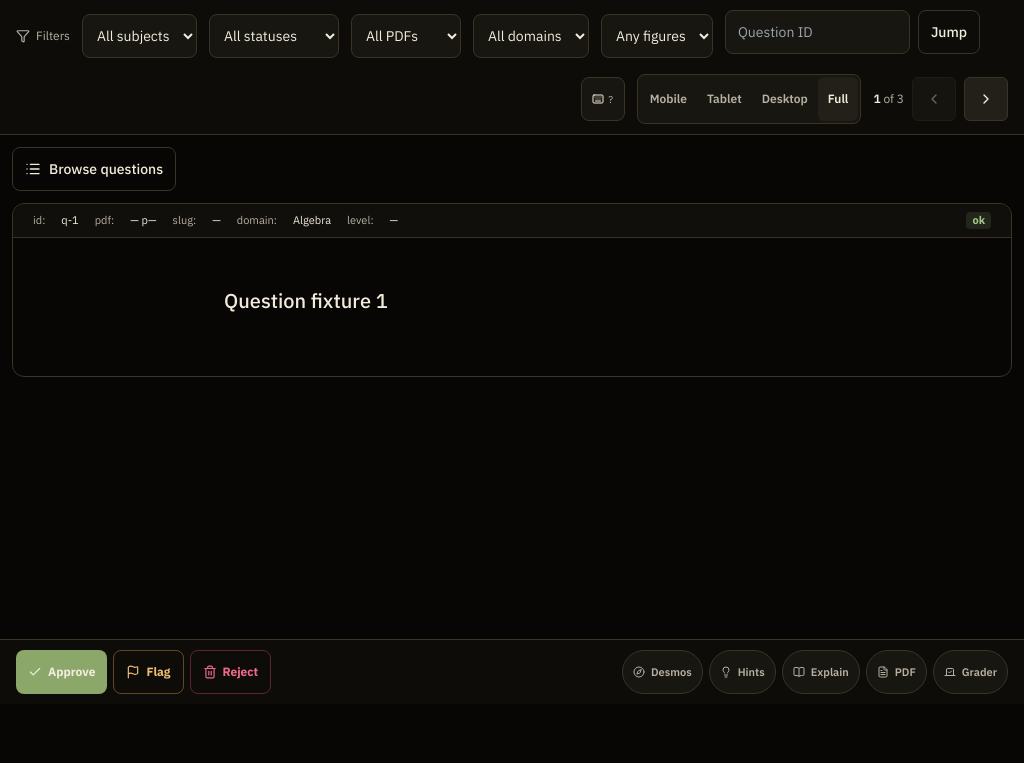
Test: full preview selected-question navigation › keeps the list, selection, filters and input focus when an ID is not loaded via keyboard
Expected: the heading "Question fixture 1" is shown, [224,286,388,314]
Select "needs_review" in the dropdown named "Question status" at (274, 36), box [209,14,339,58]
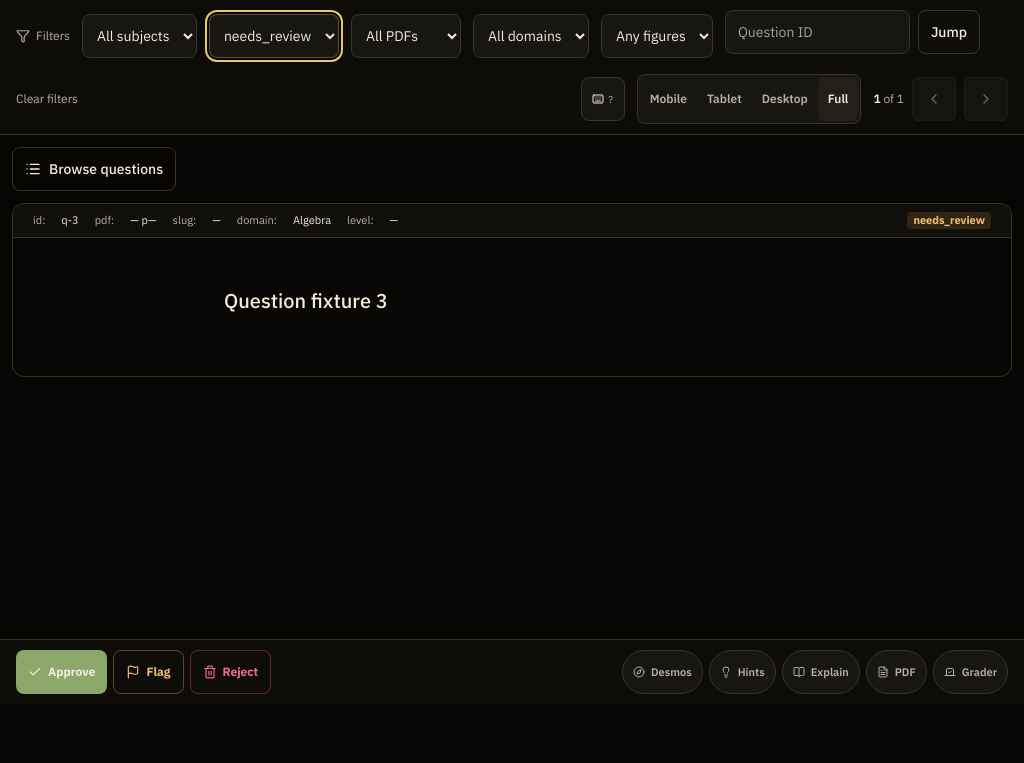
Click the button "Browse questions" at (94, 169), box [12,147,176,191]
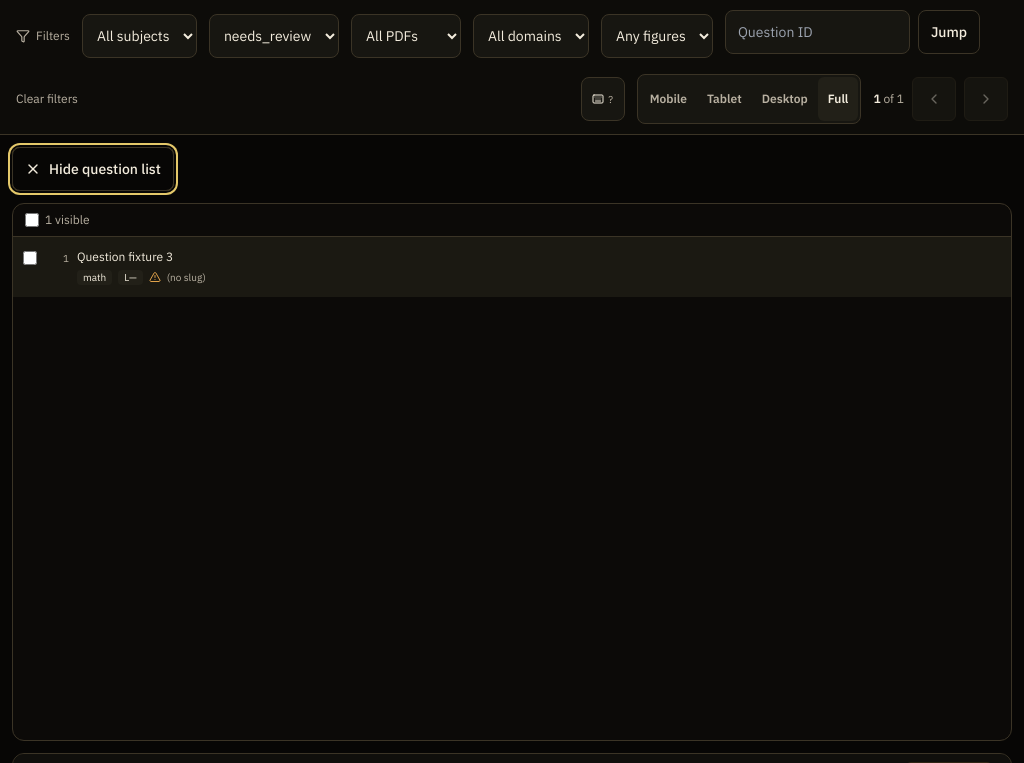
Type "not-loaded" into the field named "Jump to question ID" at (817, 32), box [725,10,910,54]
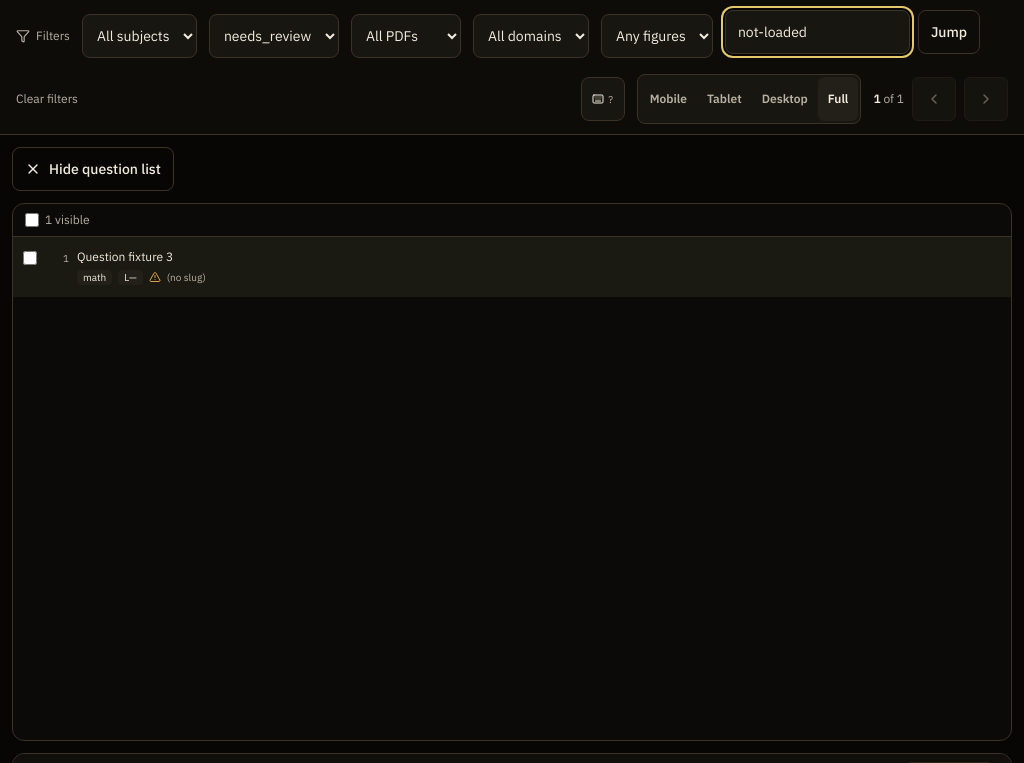
Press Enter
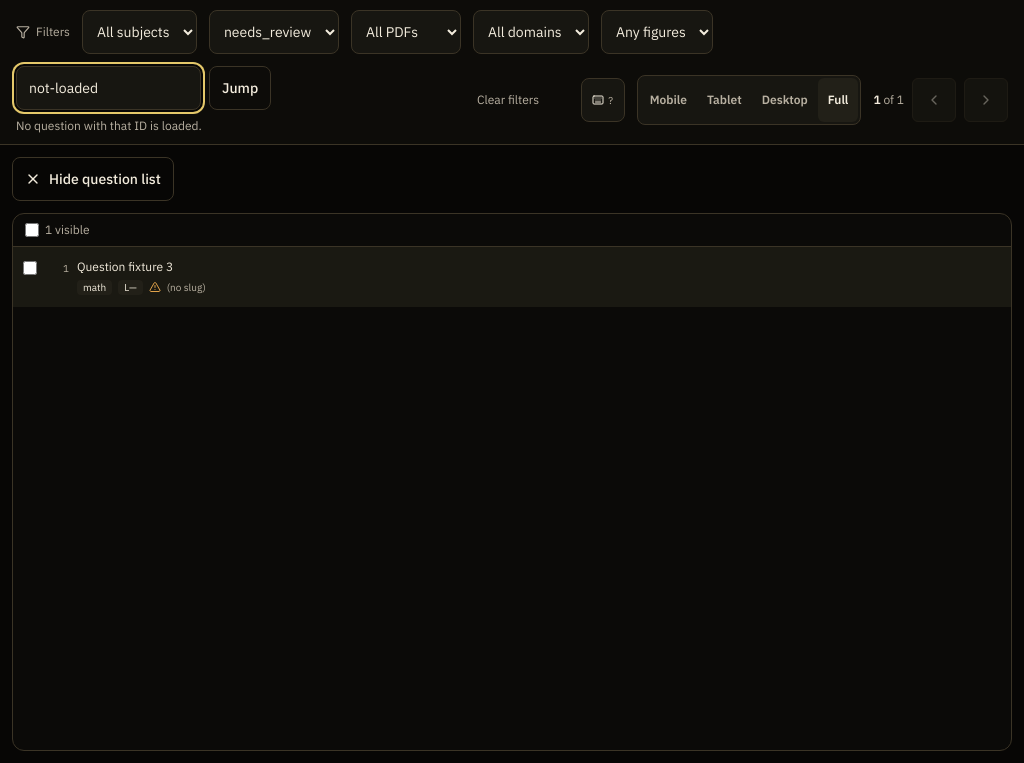
Expected: the button "Hide question list" is expanded, [12,157,174,201]
Expected: the message reads "No question with that ID is loaded.", [16,118,202,133]
